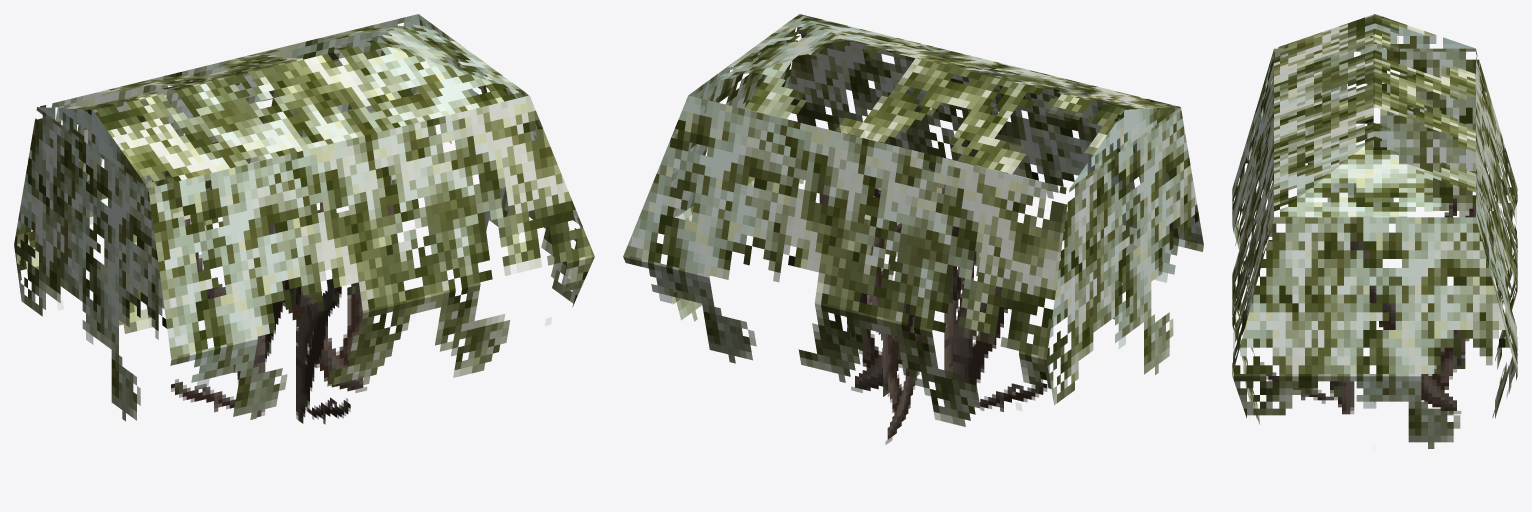
File: bush_long_half_open_right_roots_winter.glb
3 views of the same model, side by side, from view 1: azimuth 30°, elevation 25°; view 2: azimuth 150°, elevation 25°; view 3: azimuth 270°, elevation 25° (orthographic). The views are drawn at different scales.
Parts seen in each view (by area): view 1: bush_long_half_open_right_roots_winter; view 2: bush_long_half_open_right_roots_winter; view 3: bush_long_half_open_right_roots_winter.
Boxes of the visible parts, x1=… form: bush_long_half_open_right_roots_winter: x1=14, y1=14, x2=594, y2=424; bush_long_half_open_right_roots_winter: x1=623, y1=14, x2=1203, y2=444; bush_long_half_open_right_roots_winter: x1=1232, y1=14, x2=1517, y2=448.
Size of the model in its own units: 1.12 by 0.8765 by 0.7191.
Materials: 2 (2 with a texture image).
